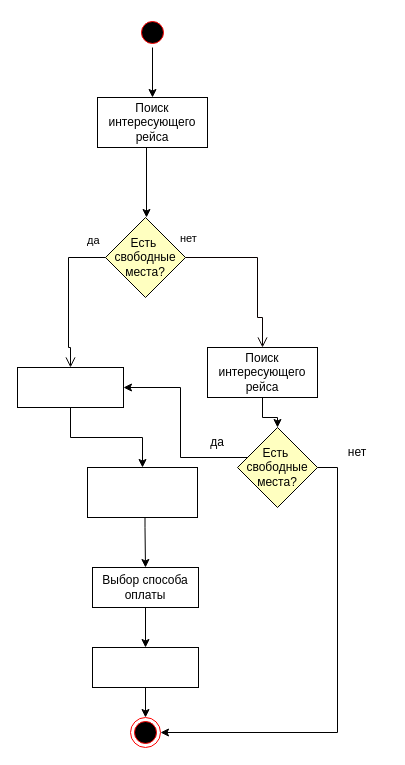
Some shapes in this 405 by 765 pixel diagram are drawn without their labels. Each missing label, with the box of its shape:
Ввод персональных данных: (86, 466, 198, 518)
Выбор места: (16, 366, 124, 408)
Оплата билета: (92, 646, 198, 688)
